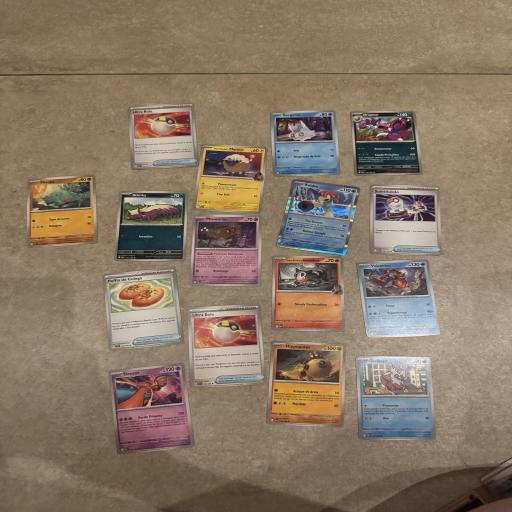card: (108, 362, 196, 456), (356, 253, 442, 345), (266, 340, 348, 428), (356, 354, 437, 442), (101, 267, 184, 351), (185, 303, 266, 388), (276, 177, 361, 257), (271, 254, 347, 332), (23, 175, 99, 248), (350, 105, 424, 179), (368, 184, 444, 256), (192, 143, 269, 214), (189, 213, 262, 287), (113, 190, 188, 261), (126, 102, 199, 170), (270, 110, 341, 177)
